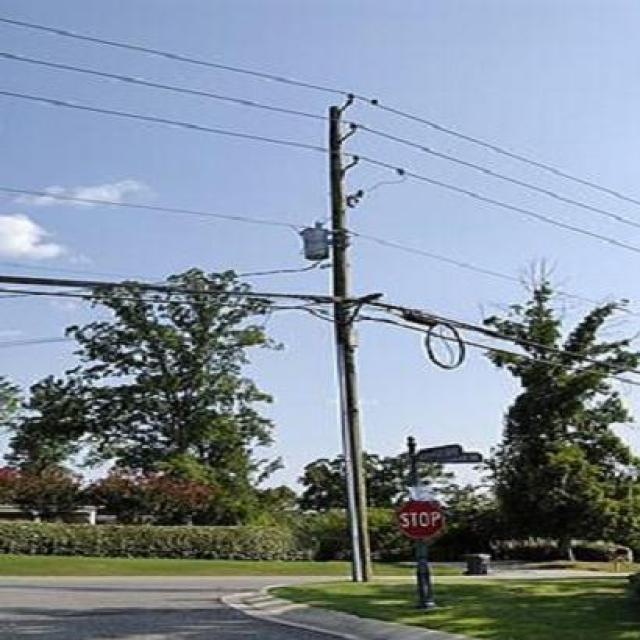non-critical vegetation: (256, 78, 426, 586)
